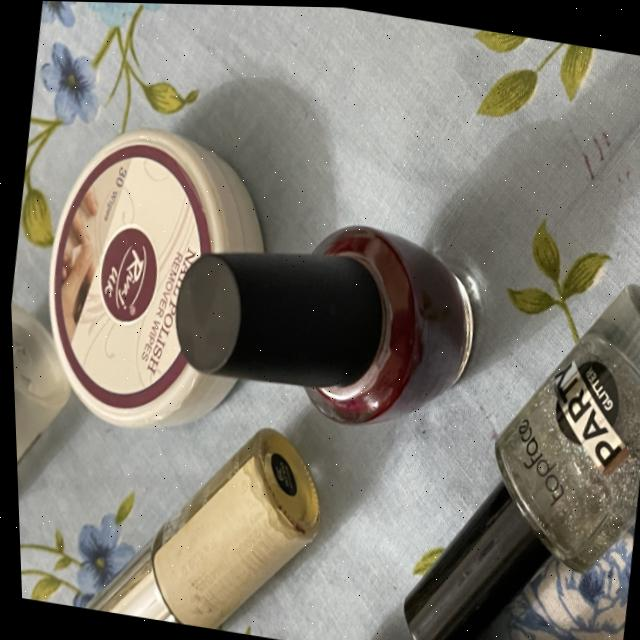nail polish: (374, 233, 640, 640), (145, 175, 502, 458), (44, 389, 340, 640)
nail polish remover: (19, 112, 280, 448)
